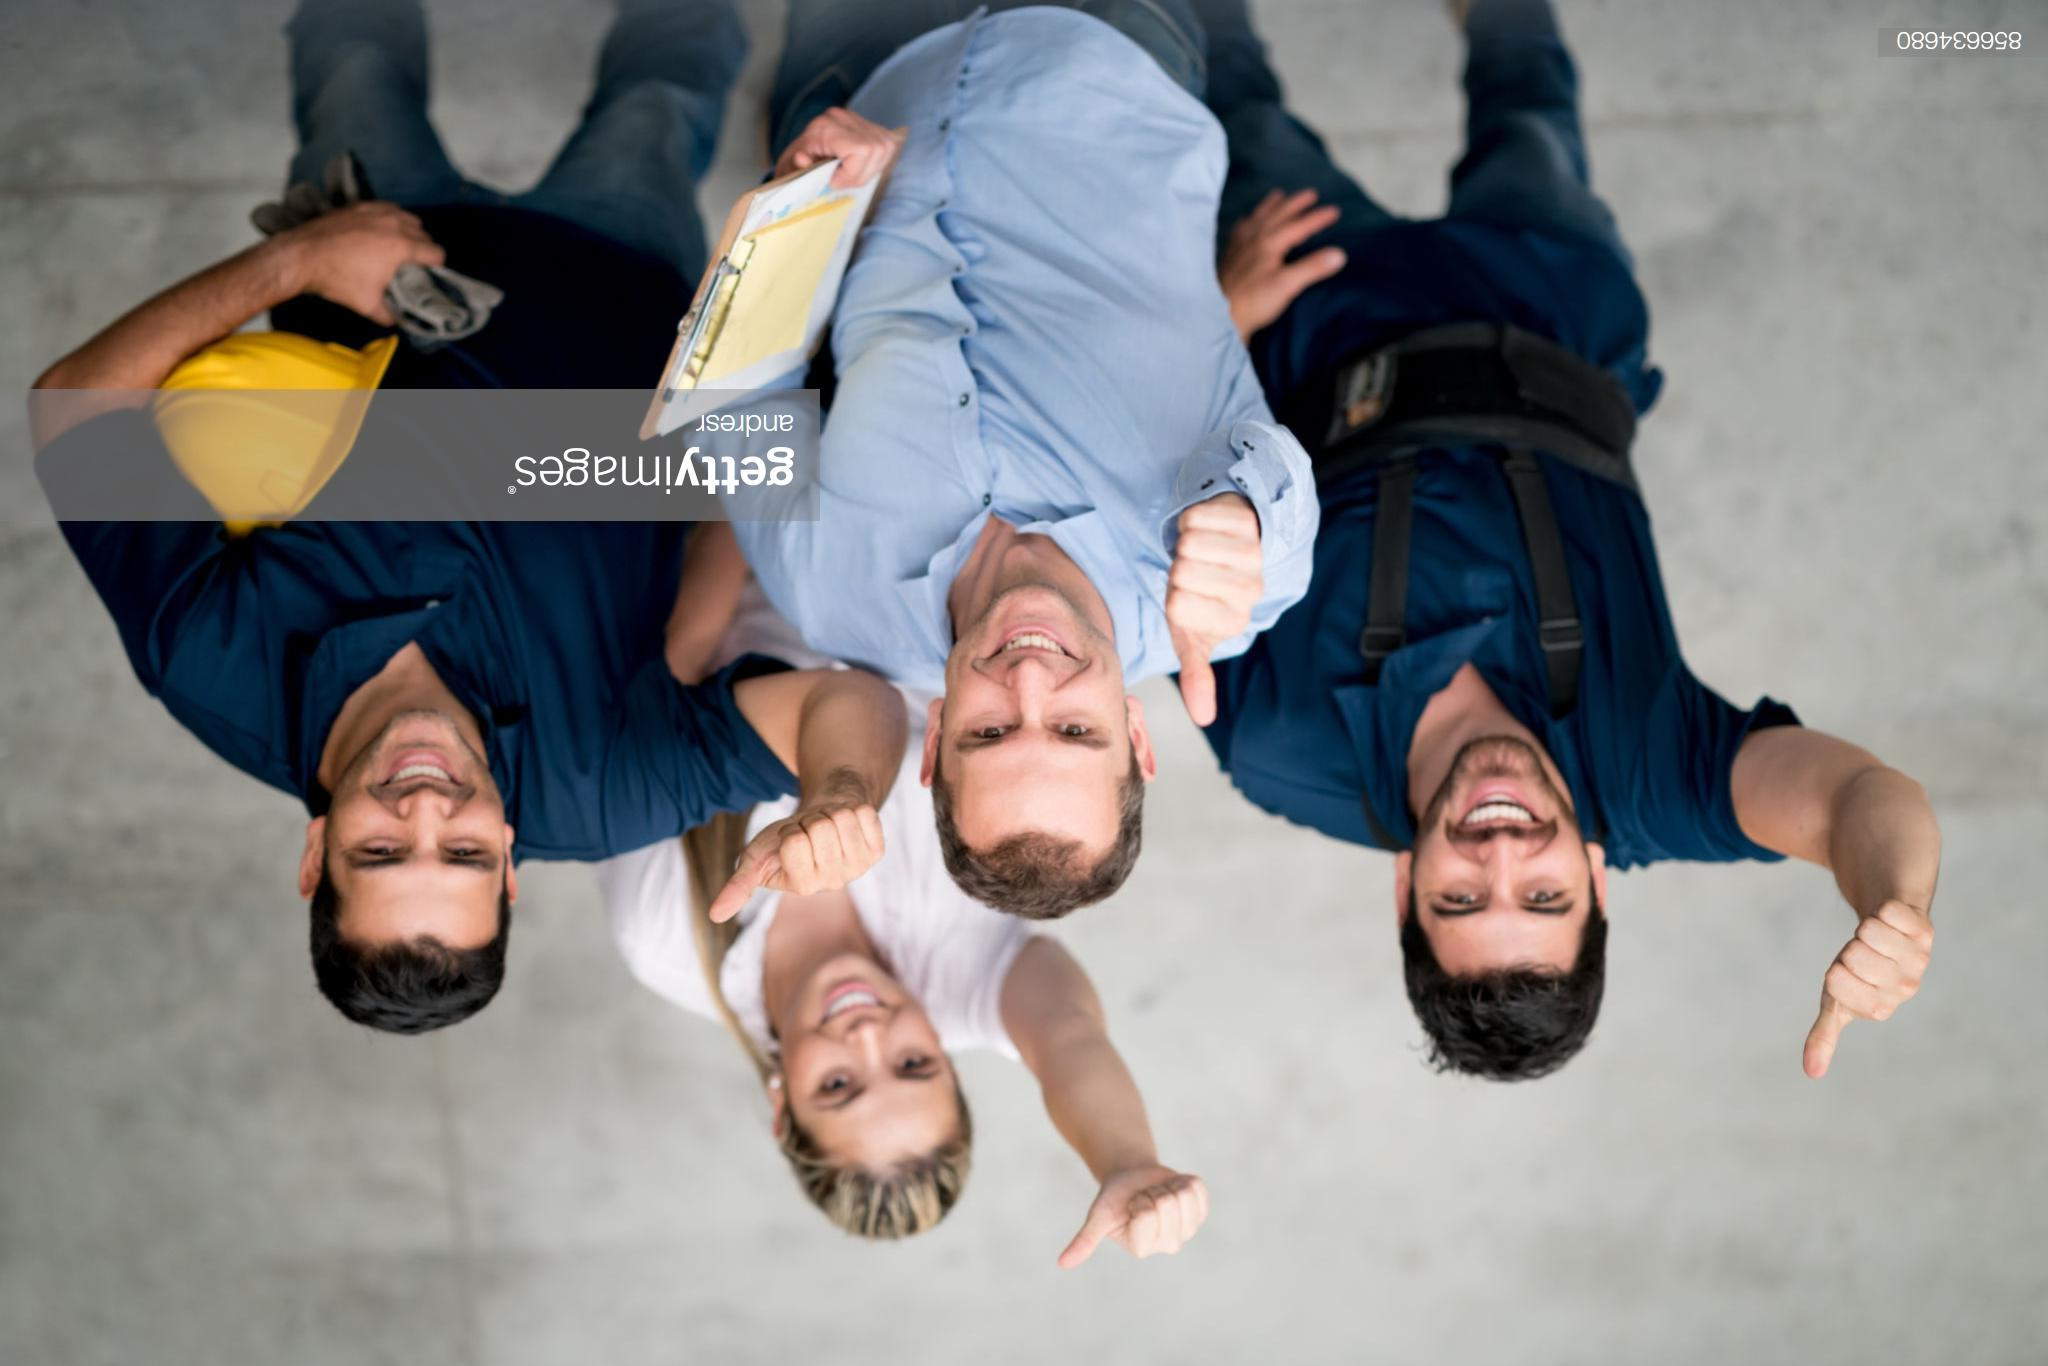thumbsdown: (1801, 899, 1935, 1079), (1166, 505, 1265, 729), (709, 803, 885, 924), (1058, 1171, 1208, 1270)
